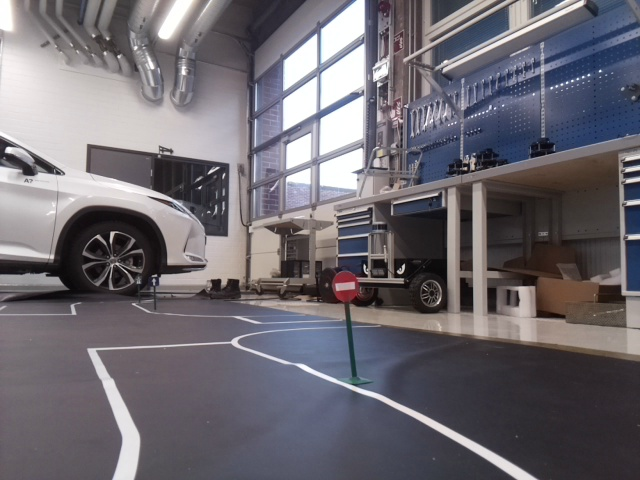NoEntry: (331, 270, 360, 300)
